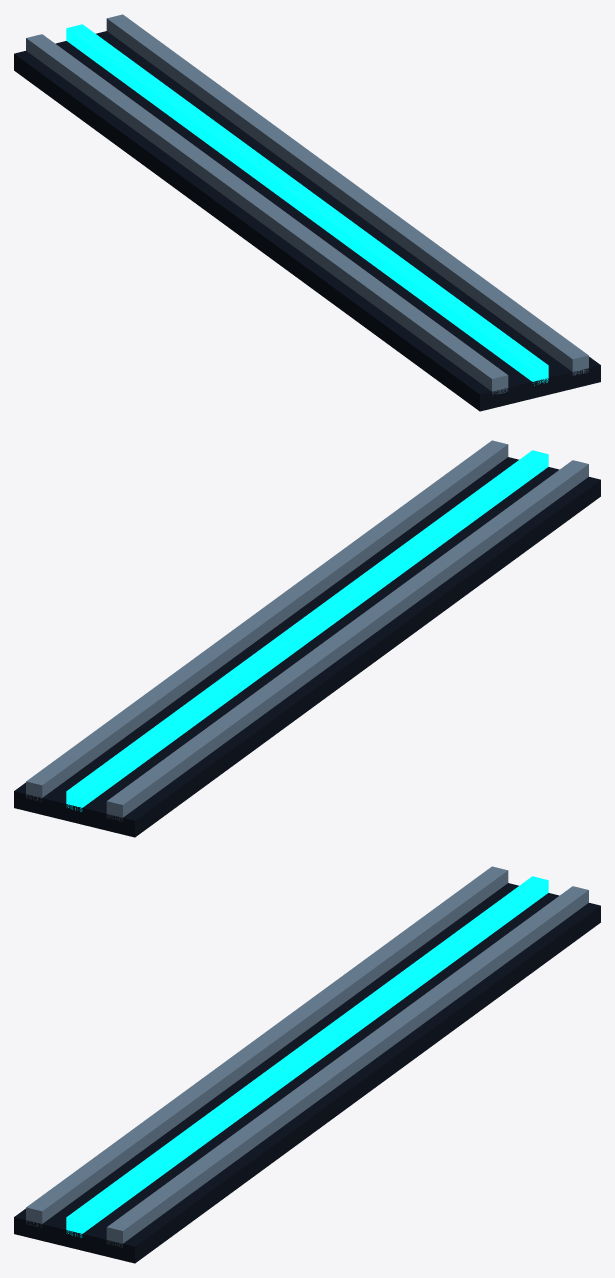
The model's file is cable_low.glb.
3 views of the same model, one above another, from view 1: azimuth 30°, elevation 25°; view 2: azimuth 150°, elevation 25°; view 3: azimuth 330°, elevation 25° (orthographic).
Parts seen in each view (by area): view 1: Cable tray, Cable.002, Cable, Cable.001; view 2: Cable tray, Cable, Cable.002, Cable.001; view 3: Cable tray, Cable.002, Cable, Cable.001.
Boxes of the visible parts, x1=… form: Cable tray: x1=14, y1=31, x2=600, y2=411; Cable.002: x1=106, y1=14, x2=588, y2=375; Cable: x1=26, y1=34, x2=508, y2=394; Cable.001: x1=66, y1=24, x2=548, y2=385; Cable tray: x1=14, y1=457, x2=600, y2=837; Cable: x1=106, y1=460, x2=588, y2=821; Cable.002: x1=26, y1=440, x2=508, y2=801; Cable.001: x1=66, y1=450, x2=548, y2=811; Cable tray: x1=14, y1=883, x2=600, y2=1263; Cable.002: x1=106, y1=886, x2=588, y2=1247; Cable: x1=26, y1=866, x2=508, y2=1227; Cable.001: x1=66, y1=876, x2=548, y2=1237.
Size of the model in its own units: 0.6 by 0.14 by 4.
